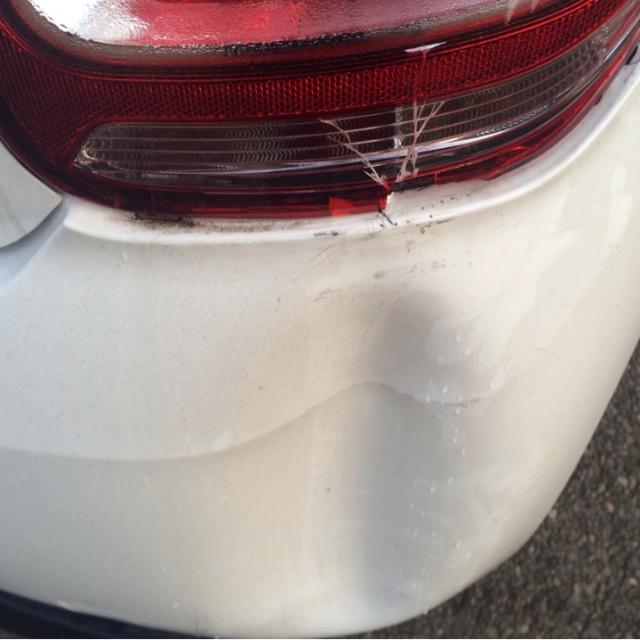dents: (262, 277, 523, 619)
